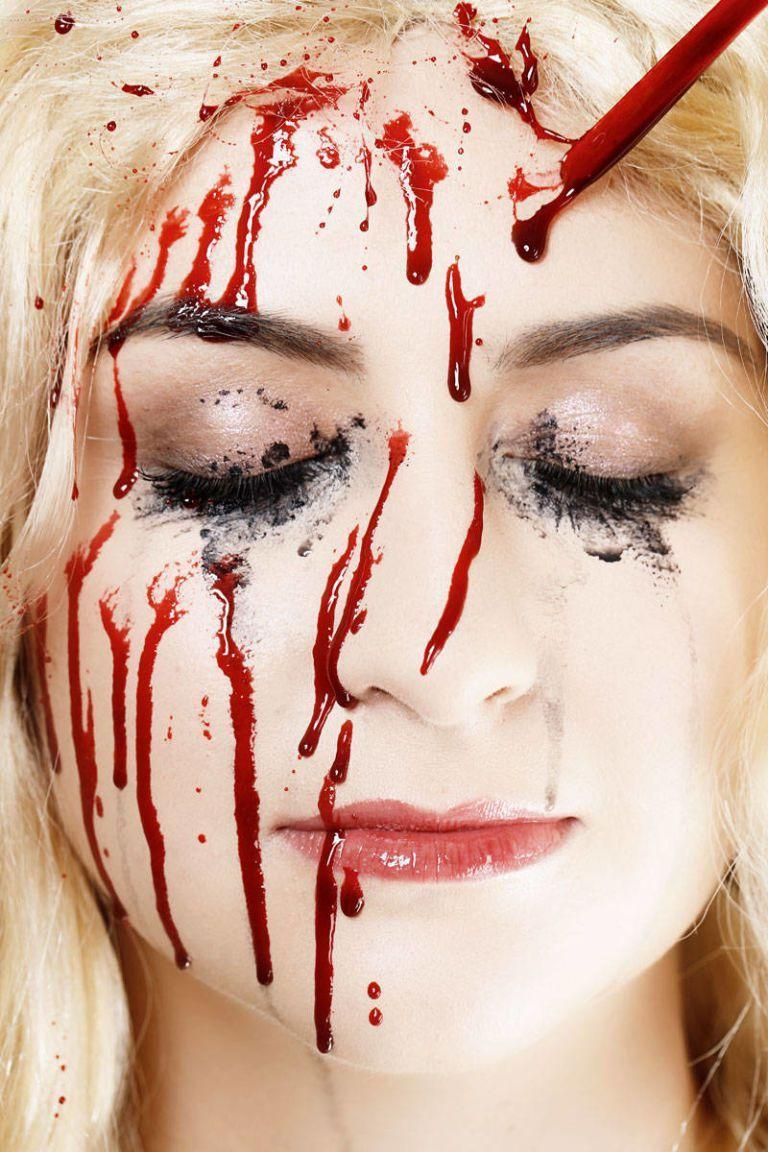Fire: (43, 0, 764, 1054), (420, 473, 485, 676), (119, 82, 153, 94), (54, 11, 73, 32), (368, 1009, 383, 1028), (367, 983, 381, 1002), (105, 121, 114, 128)
